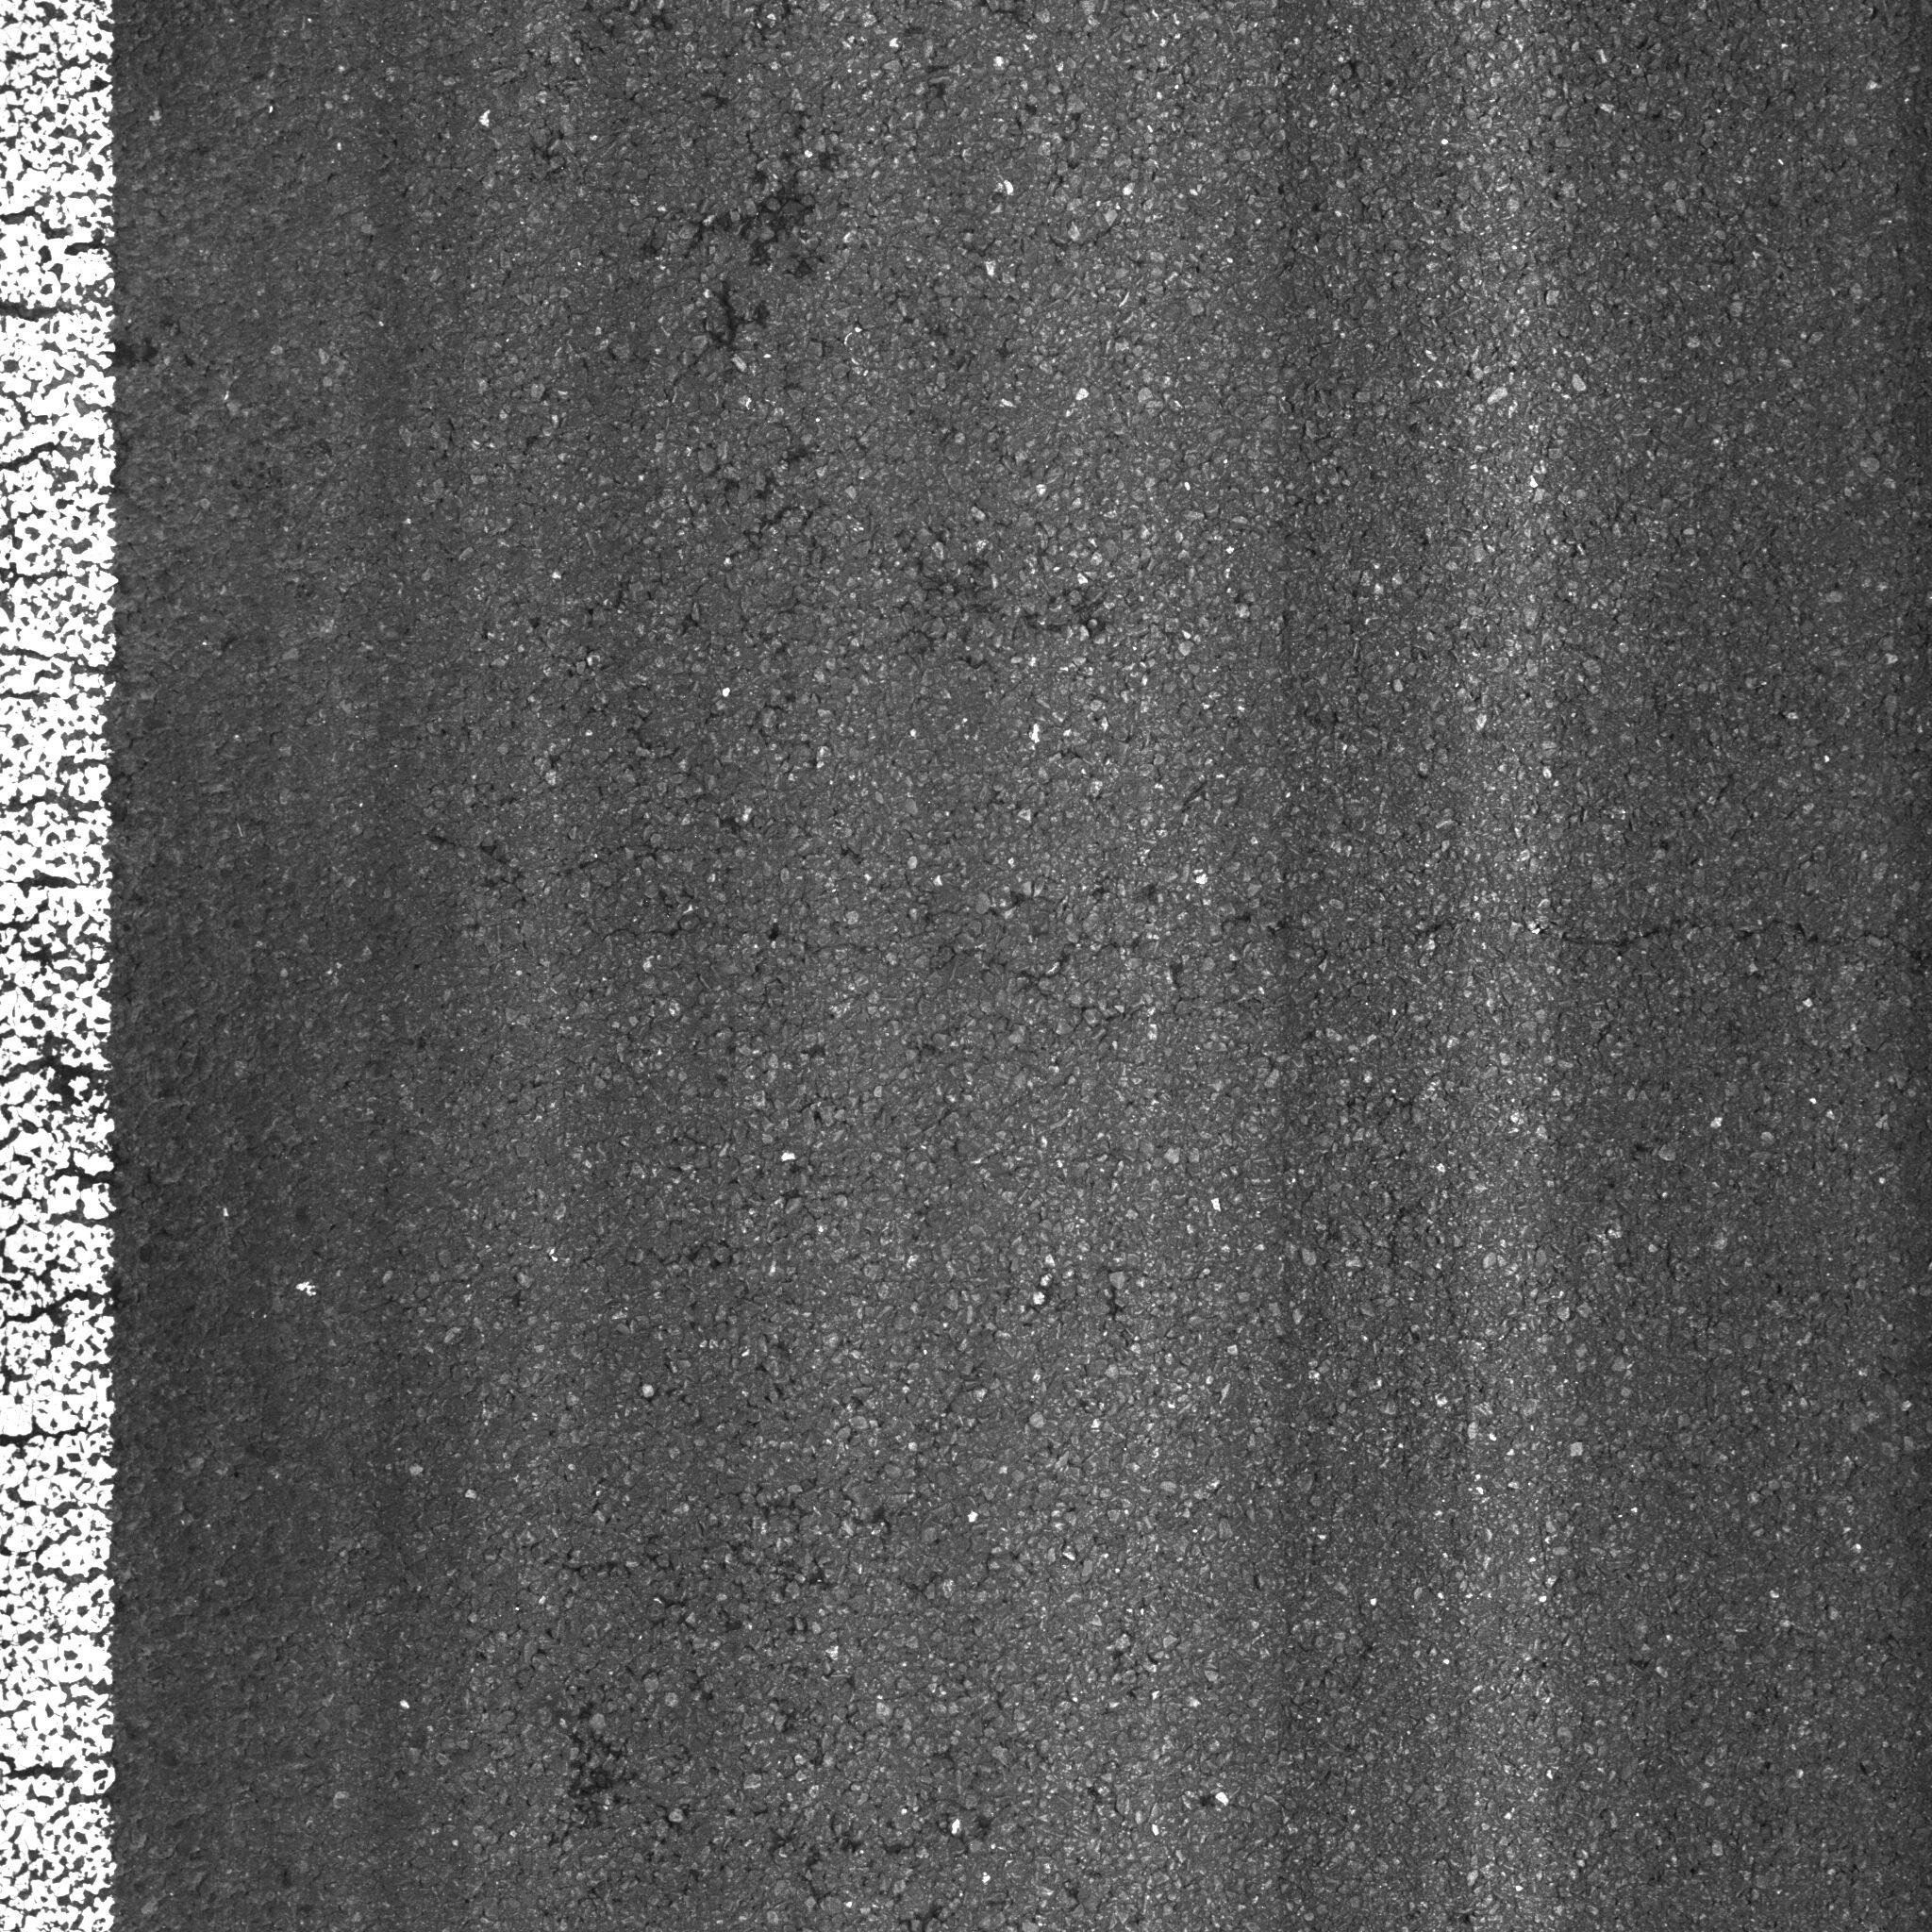transeverse: (1391, 883, 1932, 998)
